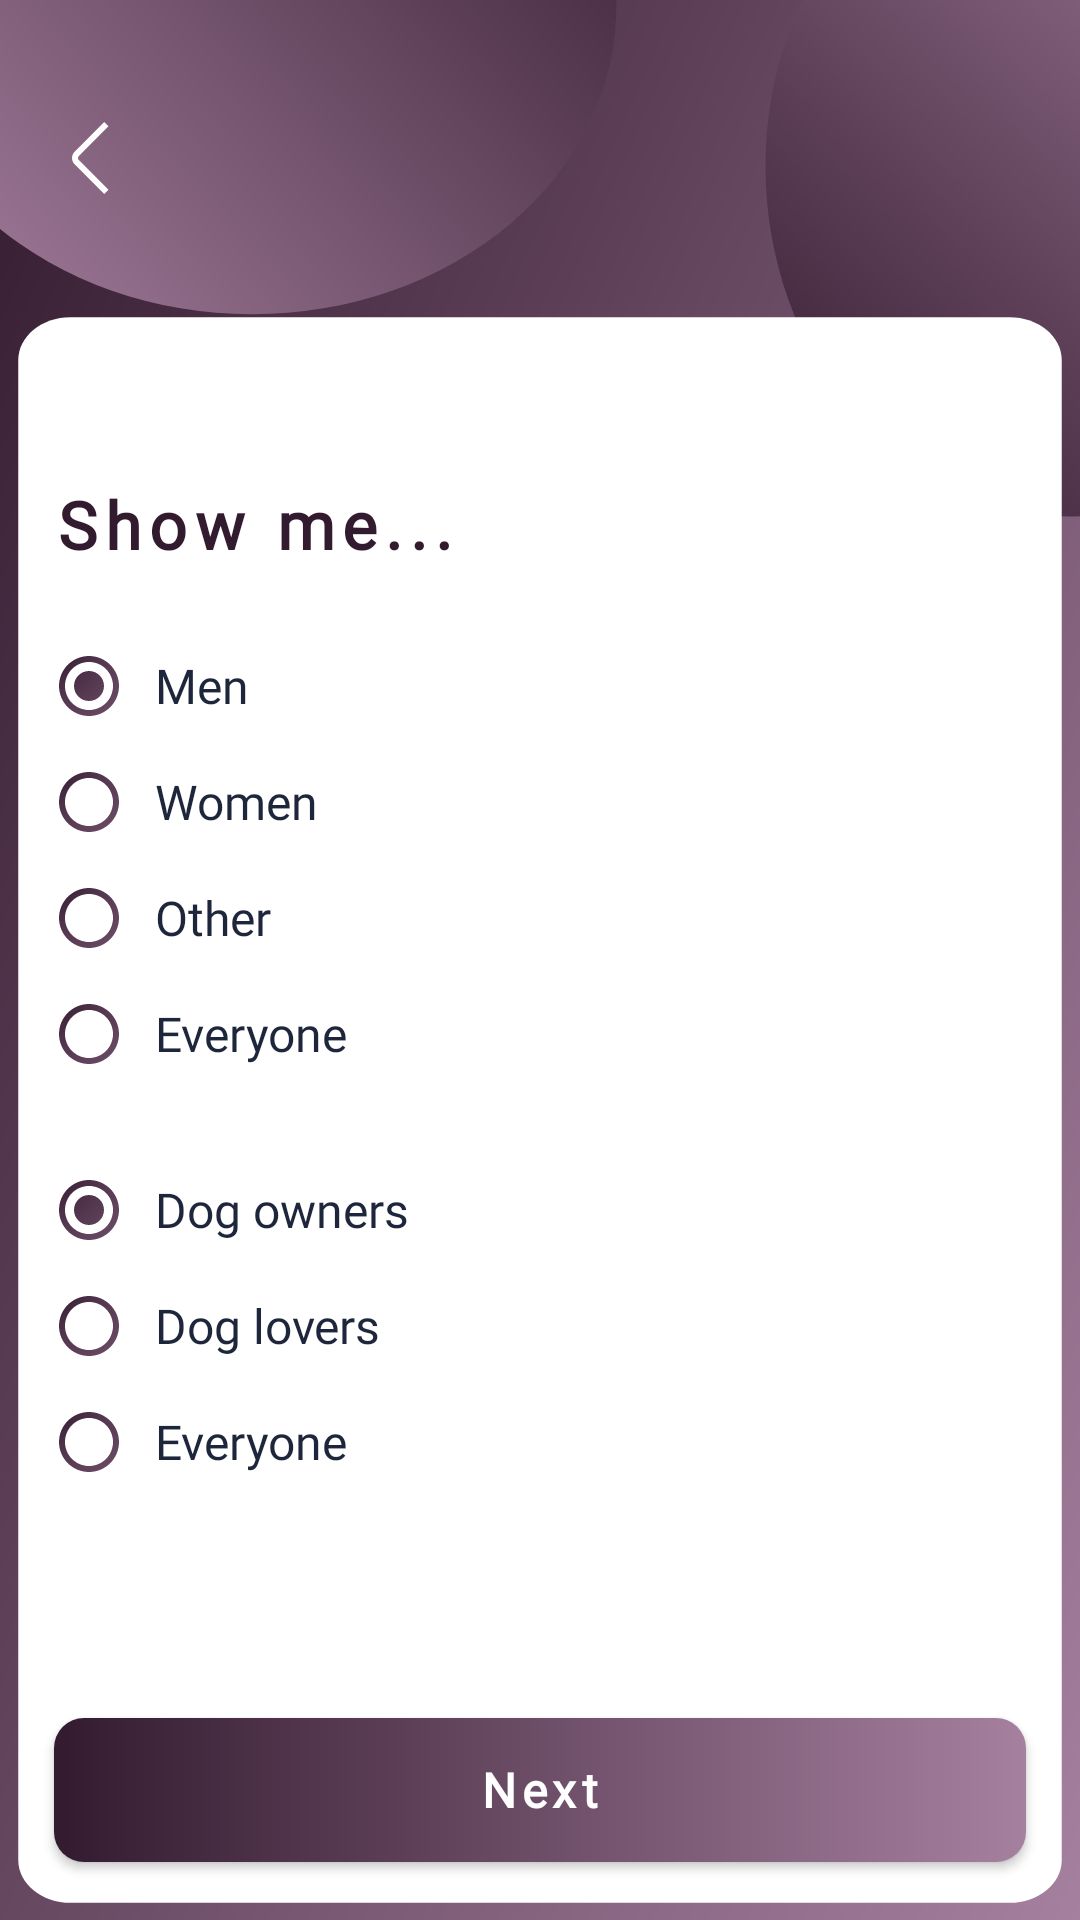

Where to tap for icons on this 1080w x 1920h app screen, as [x,y]:
back arrow: [90,158]
